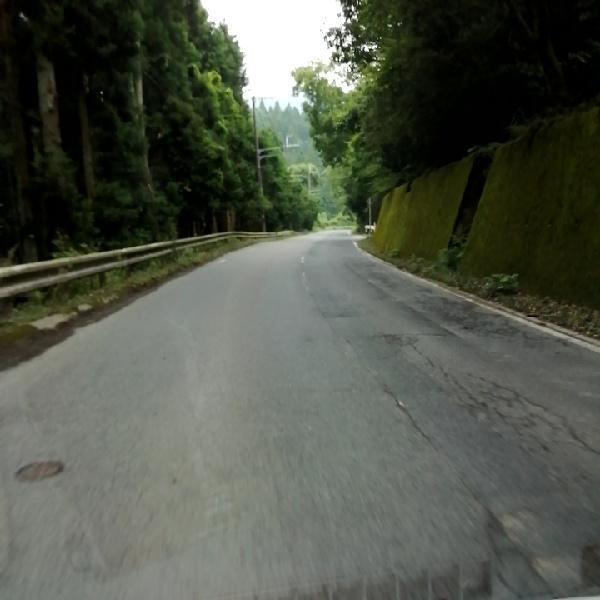D00: (373, 380, 435, 449)
D20: (412, 347, 567, 441)
D50: (13, 457, 64, 481)
